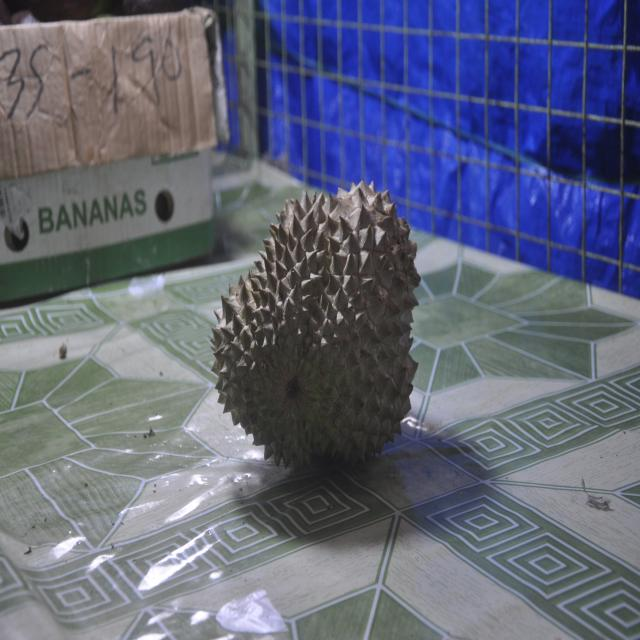mature: (211, 181, 420, 469)
